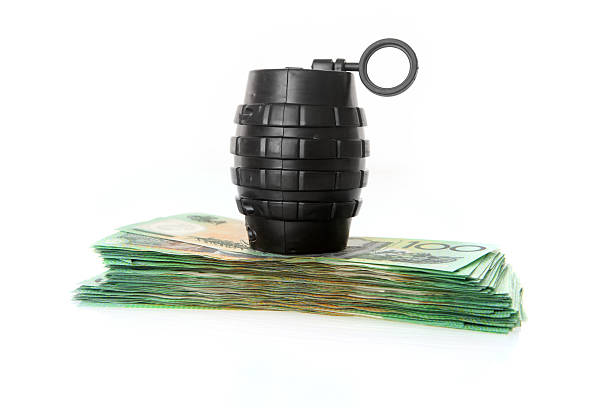e1: (229, 41, 416, 251)
